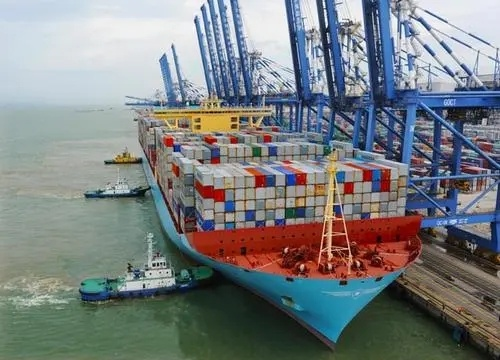Cargoship: (133, 83, 425, 353)
otherboat: (77, 234, 213, 306), (79, 171, 158, 198), (104, 147, 147, 166)
